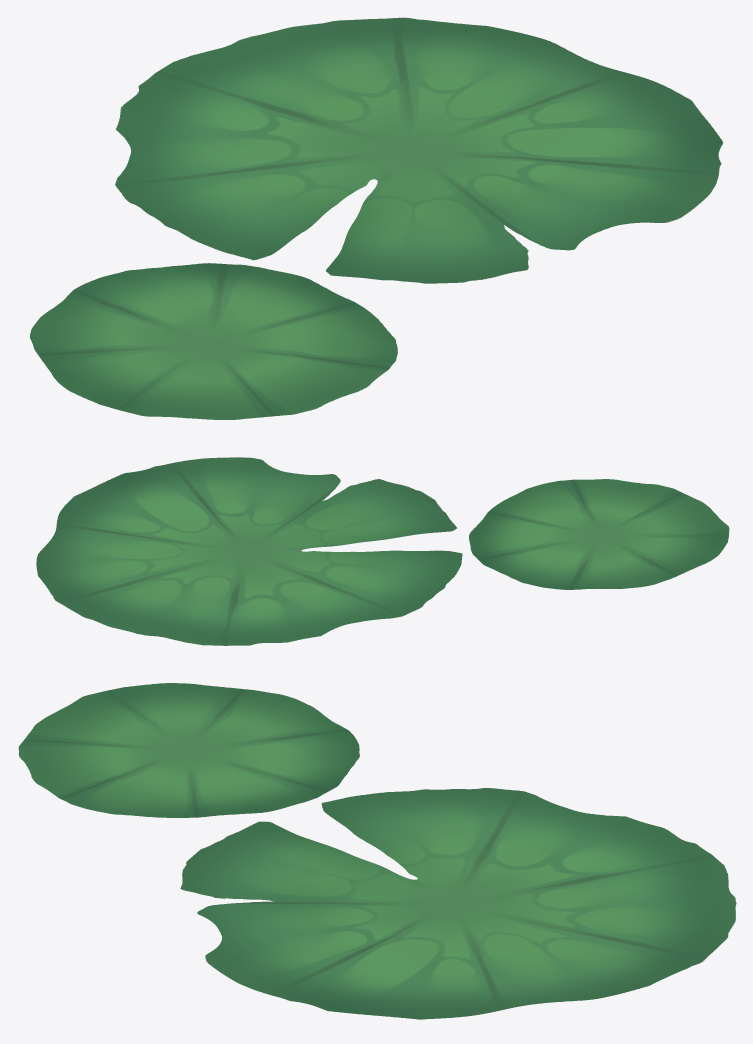
The model's file is MODEL_lilypad3.fbx.
3 renders of one model, top to bottom at view 1: azimuth 30°, elevation 25°; view 2: azimuth 150°, elevation 25°; view 3: azimuth 270°, elevation 25°, orthographic. The views are drawn at different scales.
Visible parts, largest first — view 1: Lilypad3; view 2: Lilypad3; view 3: Lilypad3.
Part boxes in pixels (x1=…): Lilypad3: x1=29, y1=17, x2=723, y2=419; Lilypad3: x1=36, y1=457, x2=729, y2=645; Lilypad3: x1=18, y1=683, x2=736, y2=1019.
Bounding box in the file's own units: 40.54 × 0 × 35.13.
